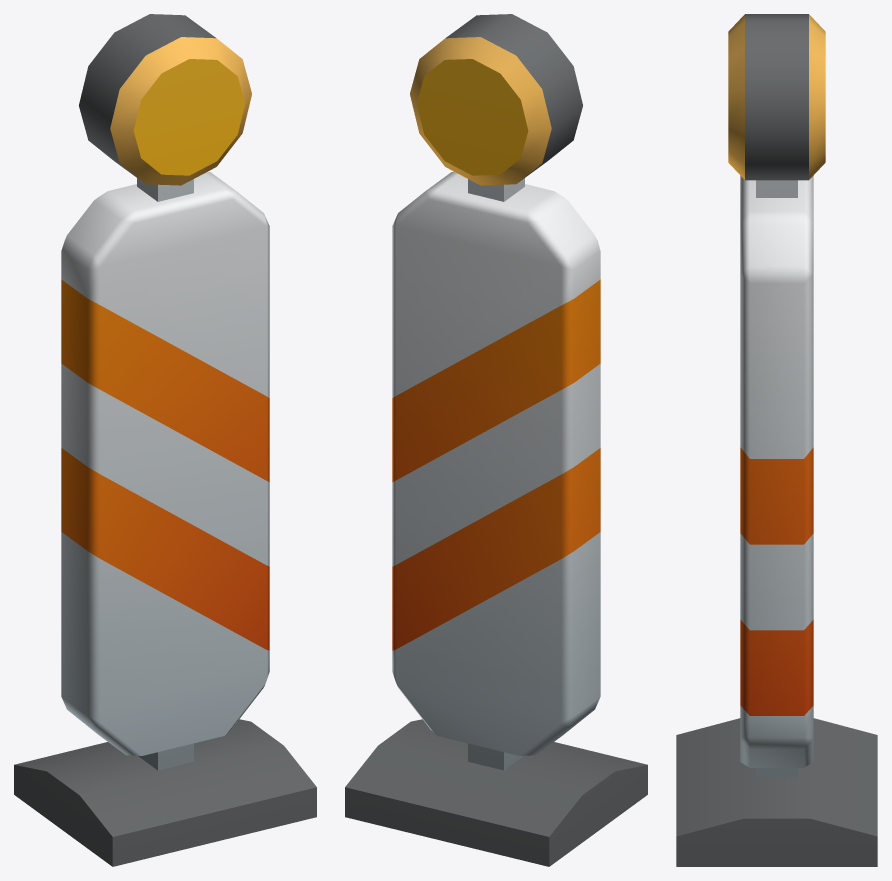
The model's file is Barrier_09.fbx.
3 views of the same model, side by side, from view 1: azimuth 30°, elevation 25°; view 2: azimuth 150°, elevation 25°; view 3: azimuth 270°, elevation 25° (orthographic).
Parts seen in each view (by area): view 1: Barrier_09; view 2: Barrier_09; view 3: Barrier_09.
Part boxes in pixels (x1,y1,x2,y2): Barrier_09: (14, 14, 316, 866); Barrier_09: (345, 14, 647, 866); Barrier_09: (676, 14, 877, 866).
Size of the model in its own units: 45.83 by 38.38 by 167.
